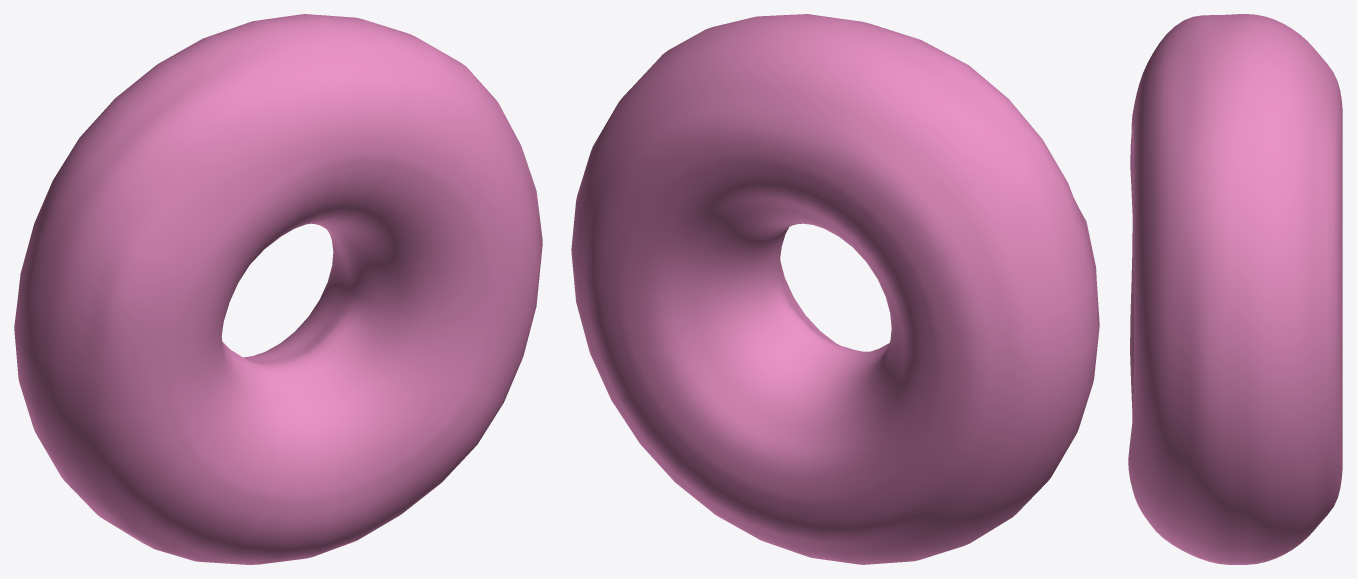
The picture shows the model from 3 angles, left to right: view 1: azimuth 30°, elevation 25°; view 2: azimuth 150°, elevation 25°; view 3: azimuth 270°, elevation 25°; orthographic projection. The views are drawn at different scales.
Parts seen in each view (by area): view 1: Cylinder; view 2: Cylinder; view 3: Cylinder.
Boxes of the visible parts, x1,y1,x2,y2 form: Cylinder: [14, 14, 542, 564]; Cylinder: [571, 14, 1099, 564]; Cylinder: [1128, 14, 1342, 564].
Bounding box in the file's own units: 2.93 × 2.94 × 1.14.
